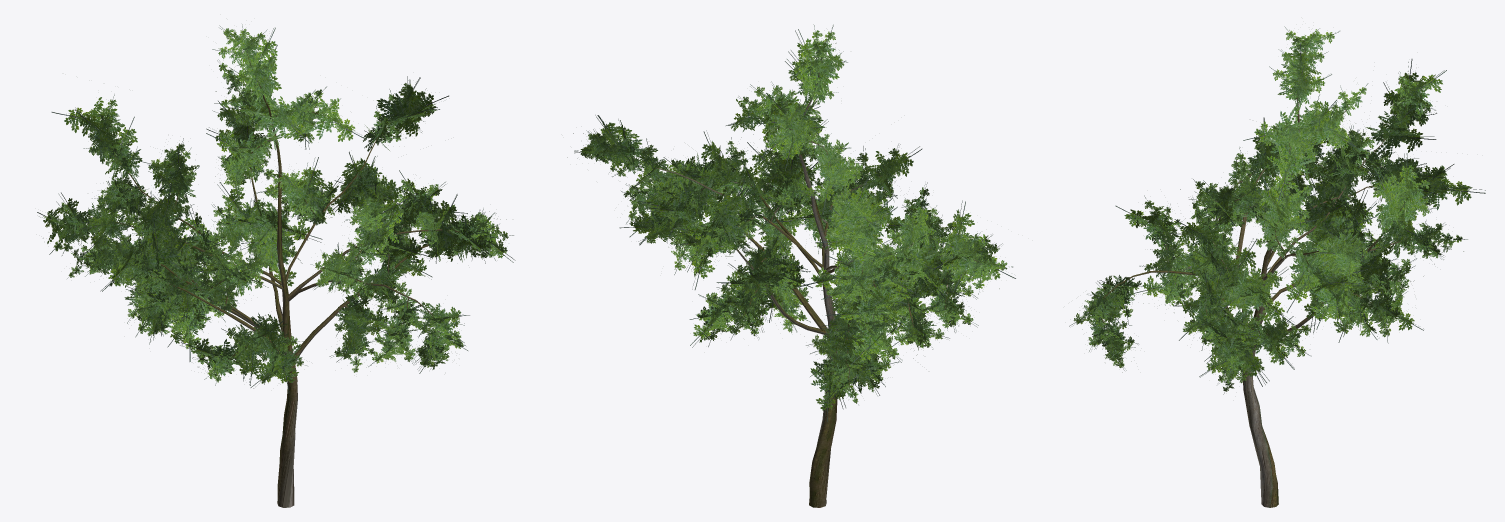
The model's file is ez-ash-small.glb.
3 renders of one model, left to right at view 1: azimuth 30°, elevation 25°; view 2: azimuth 150°, elevation 25°; view 3: azimuth 270°, elevation 25°, orthographic. The views are drawn at different scales.
Visible parts, largest first — view 1: mid, near; view 2: mid, near; view 3: mid, near.
Part boxes in pixels (box(x1,y1,x2,y2)): mid: box(37, 24, 515, 507); near: box(43, 25, 513, 505); mid: box(574, 29, 1015, 507); near: box(567, 24, 1012, 504); mid: box(1084, 28, 1485, 507); near: box(1069, 26, 1467, 507).
Bounding box in the file's own units: 6.39 × 7 × 5.72.
Materials: 1 (1 with a texture image).
